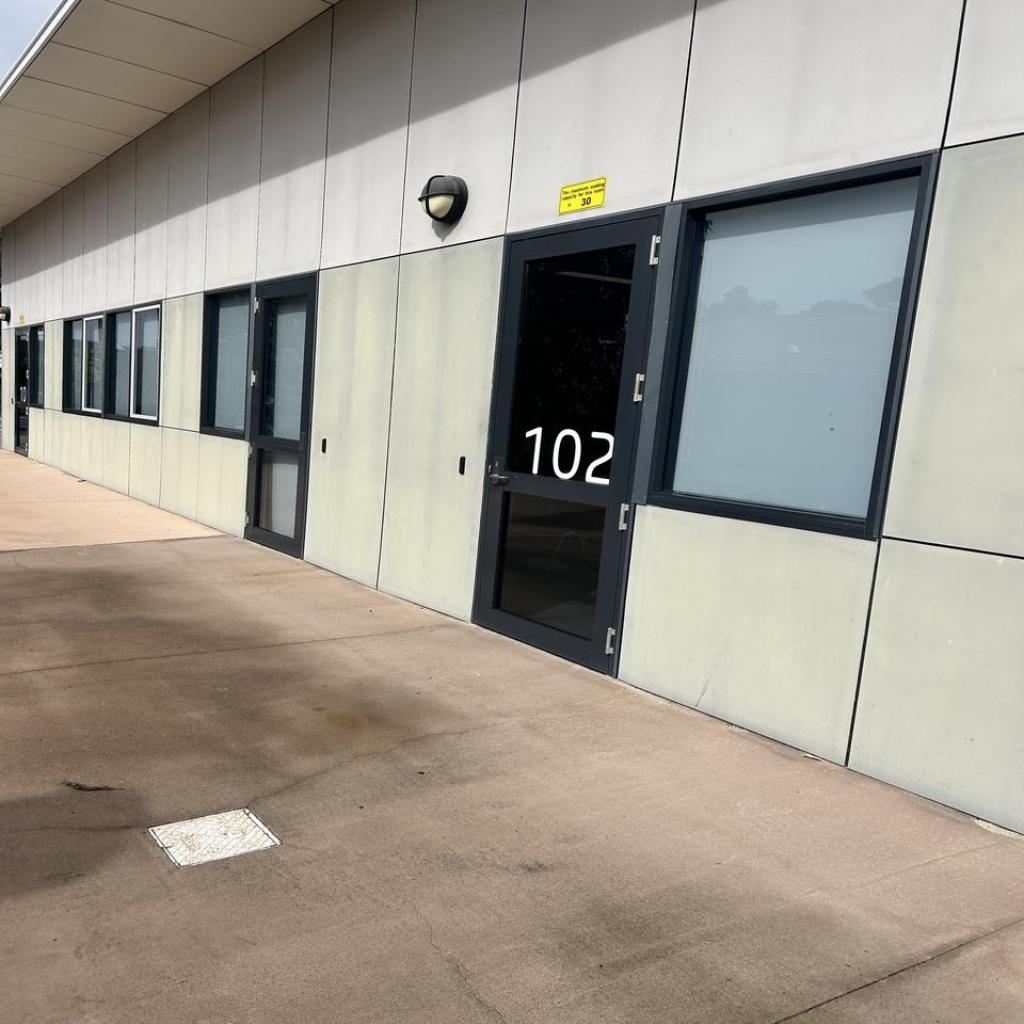BuildingCodes: (524, 424, 618, 488)
